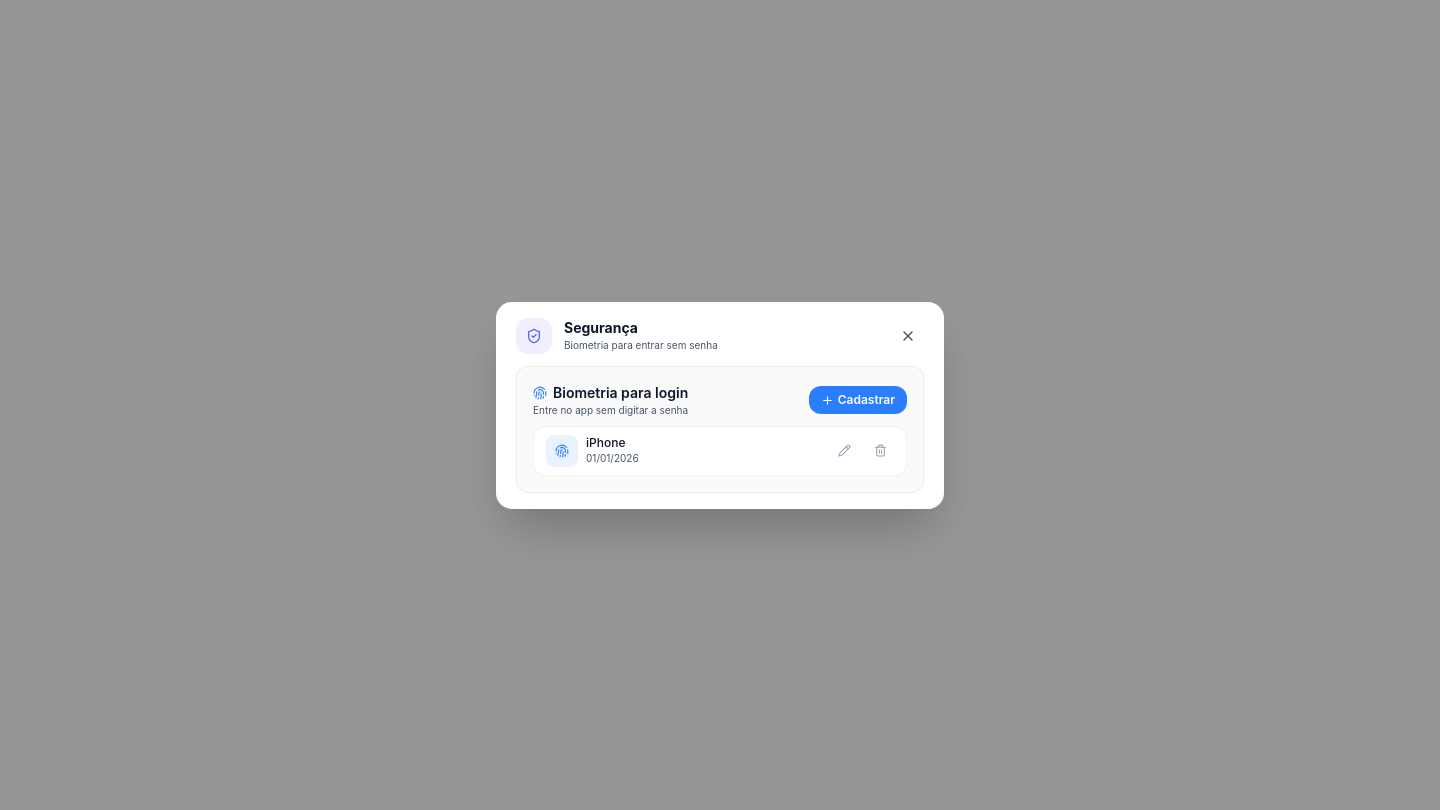
Scenario: SecuritySheet › remove uma passkey
Expected: the text "iPhone" is shown, [586,435,626,450]
Click the button titled "Remover". click: (880, 450)
box: [866,436,894,464]
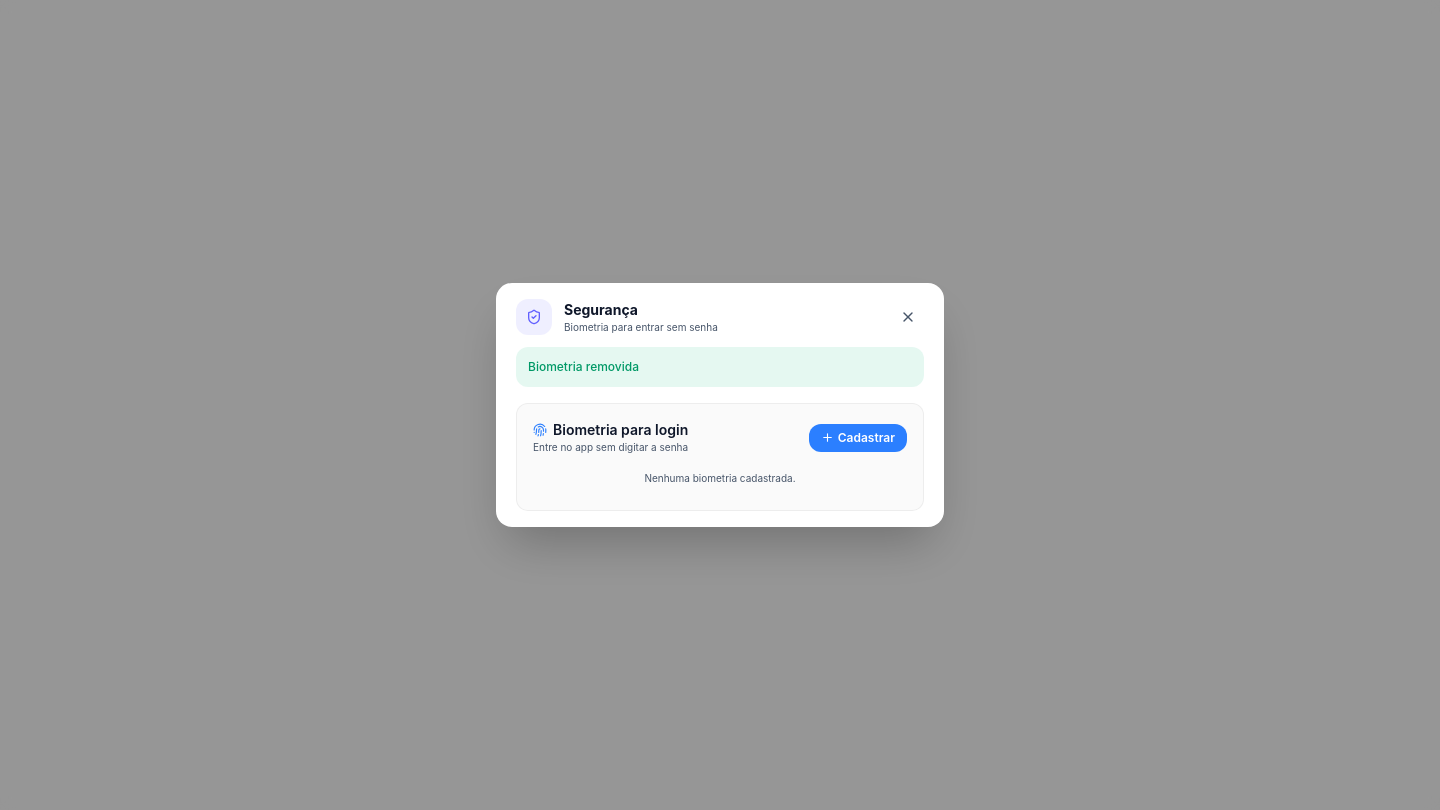
Expected: the text "iPhone" is gone
